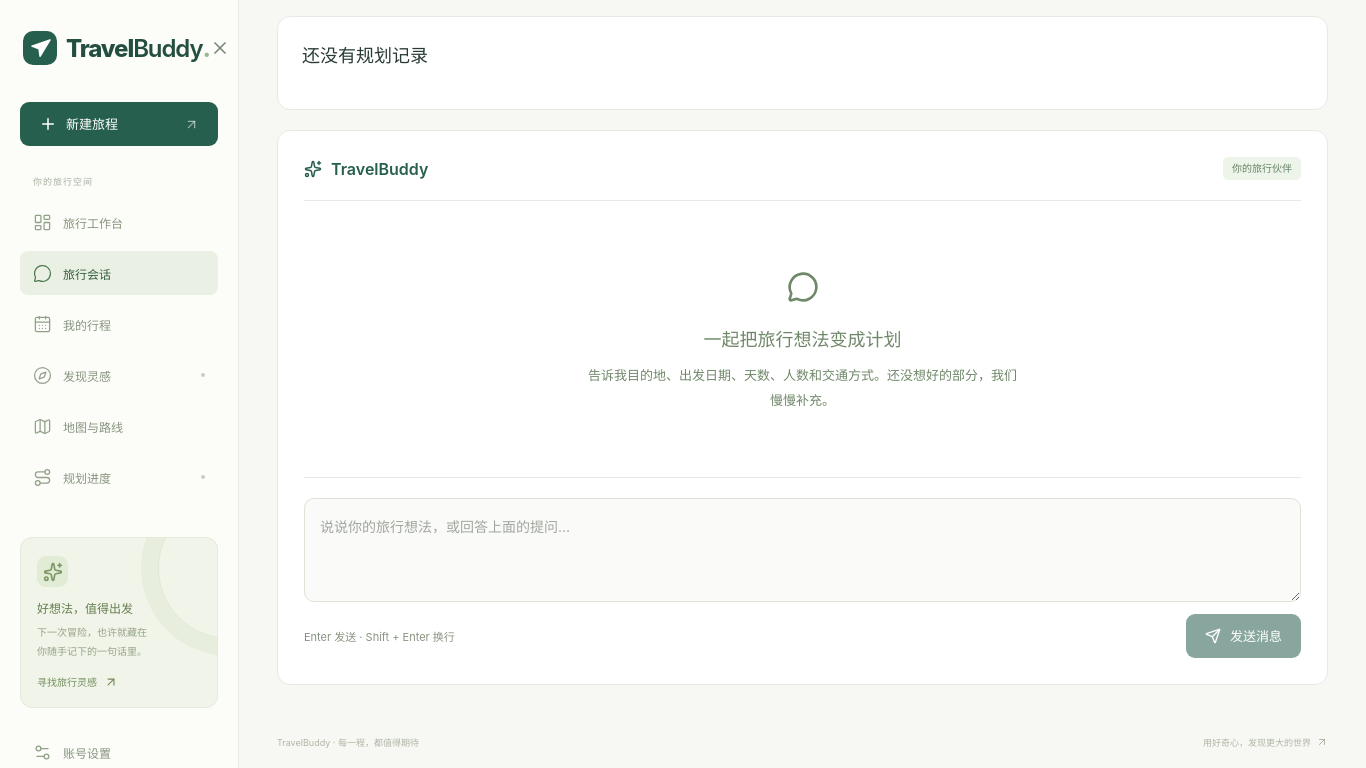
旅行会话 › 发送失败先读取进度，pending 只允许 retry，恢复时不追加用户消息
The width and height of the screenshot is (1366, 768).
(page scrolled)
Type "想去杭州" into the text box named "发送旅行消息" at (802, 550), box [304,498,1301,602]
Then press Enter
(page scrolled)
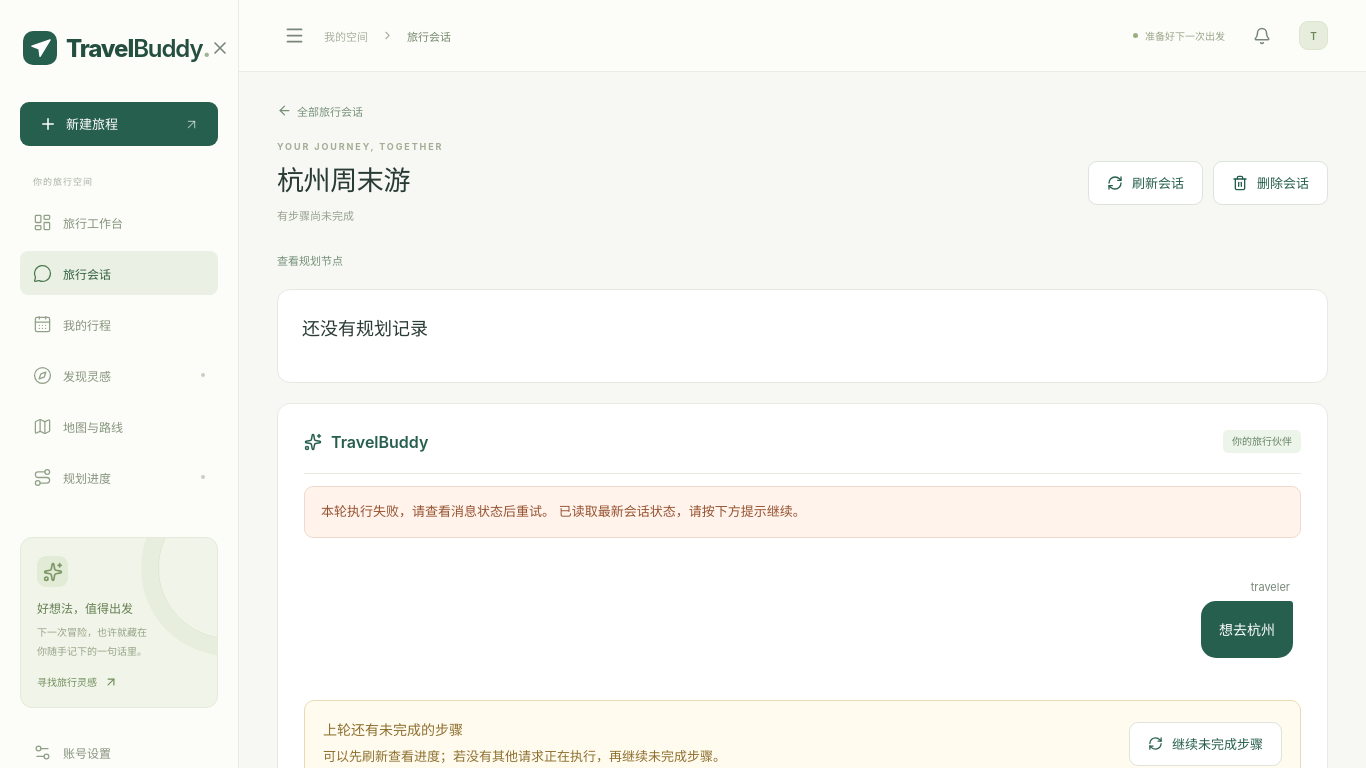
Result: the message shows "已读取最新会话状态" at [321,503,806,519]
Click the button "继续未完成步骤" at (1206, 744), box [1129,722,1282,766]
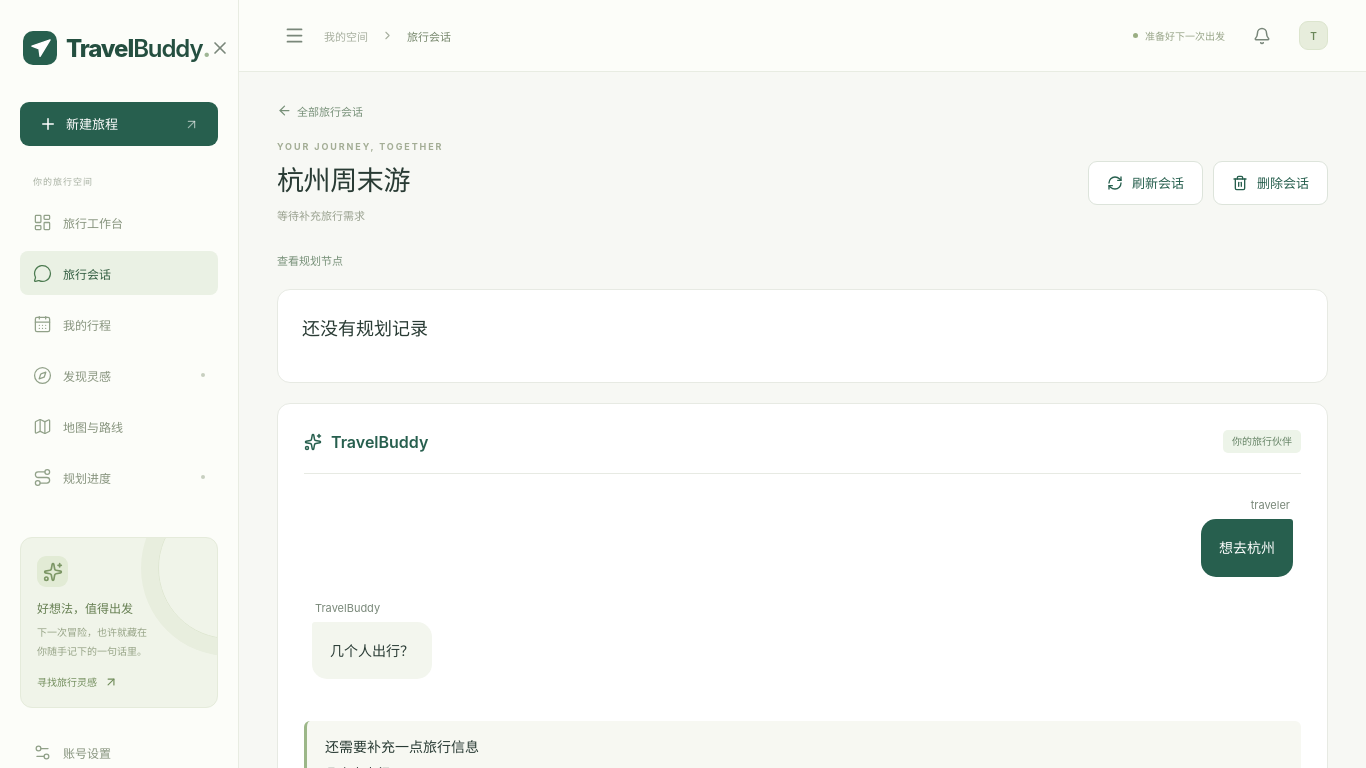
Result: the text "还需要补充一点旅行信息" is shown at [325,738,479,755]
